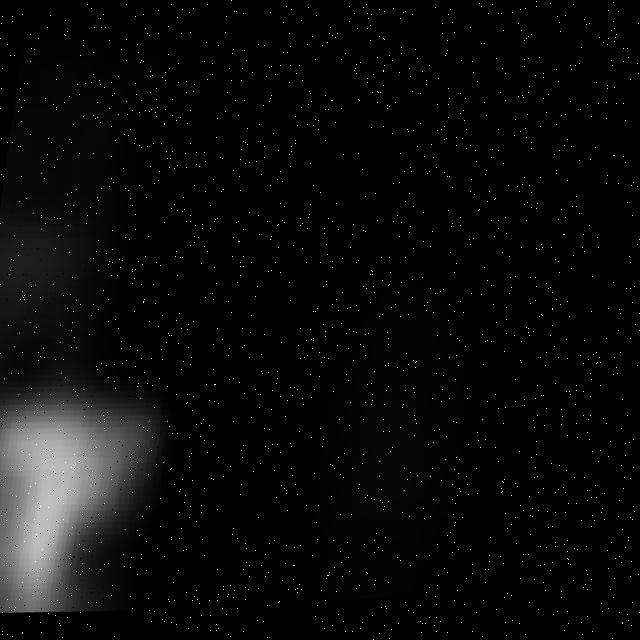person: (1, 100, 187, 627)
